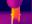Hotspot: (11, 7, 20, 23)
